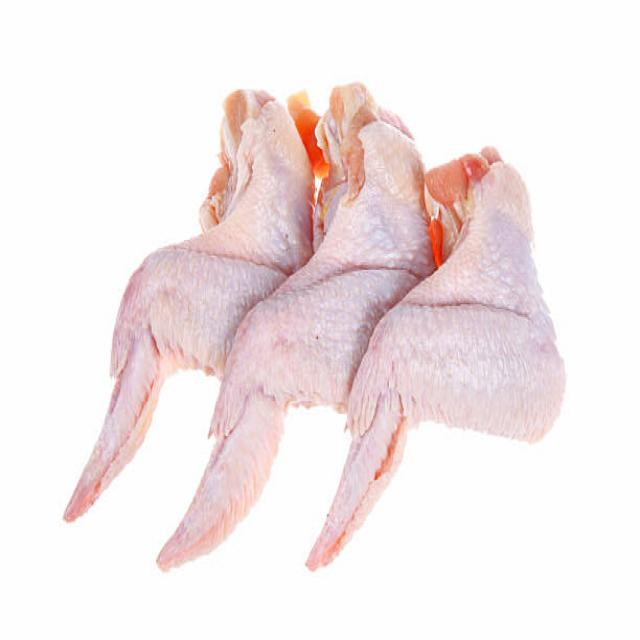chicken: (308, 148, 560, 610), (37, 90, 273, 536)
